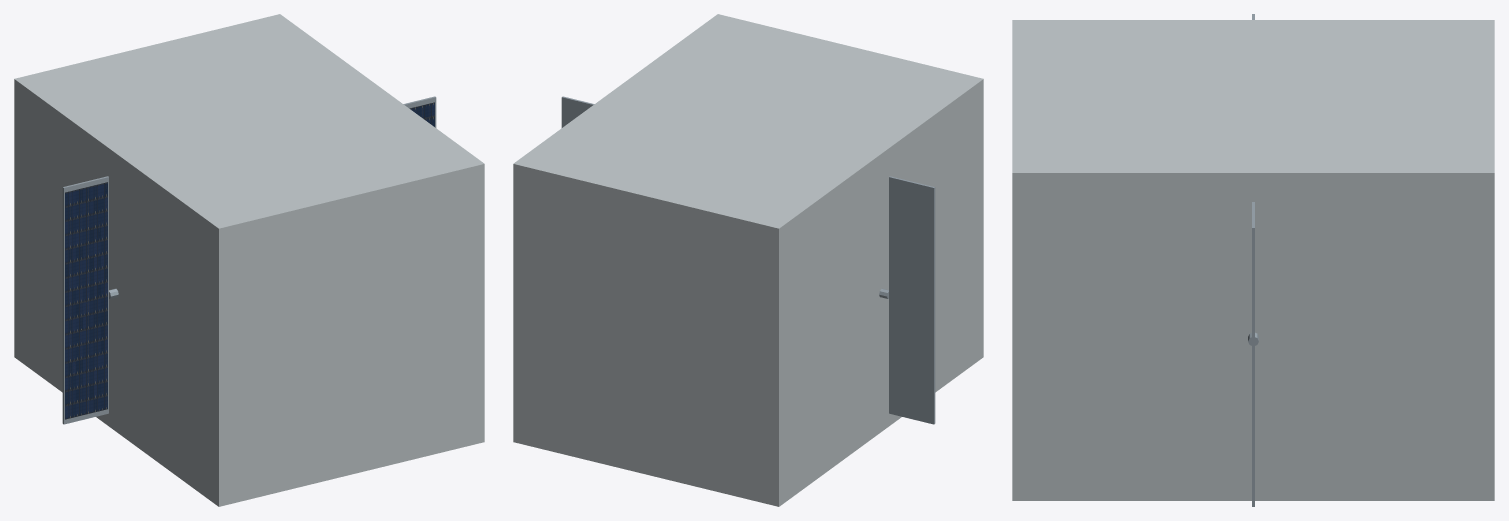
File: ref-shiyan-22a-sy-22a-55242.glb
3 renders of one model, left to right at view 1: azimuth 30°, elevation 25°; view 2: azimuth 150°, elevation 25°; view 3: azimuth 270°, elevation 25°, orthographic. The views are drawn at different scales.
Visible parts, largest first — view 1: Spacecraft body, Photovoltaic laminates, Array frame; view 2: Spacecraft body, Array frame (×2); view 3: Spacecraft body, Array frame.
Part boxes in pixels (bbox=[...]): Spacecraft body: bbox=[14, 14, 484, 506]; Photovoltaic laminates: bbox=[65, 182, 107, 419]; Array frame: bbox=[62, 176, 108, 424]; Spacecraft body: bbox=[513, 14, 983, 506]; Array frame (×2): bbox=[561, 96, 935, 424]; Spacecraft body: bbox=[1012, 20, 1494, 500]; Array frame: bbox=[1252, 202, 1254, 506].
Bounding box in the file's own units: 2.1 × 1.5 × 2.
3 materials, 1 textured.
